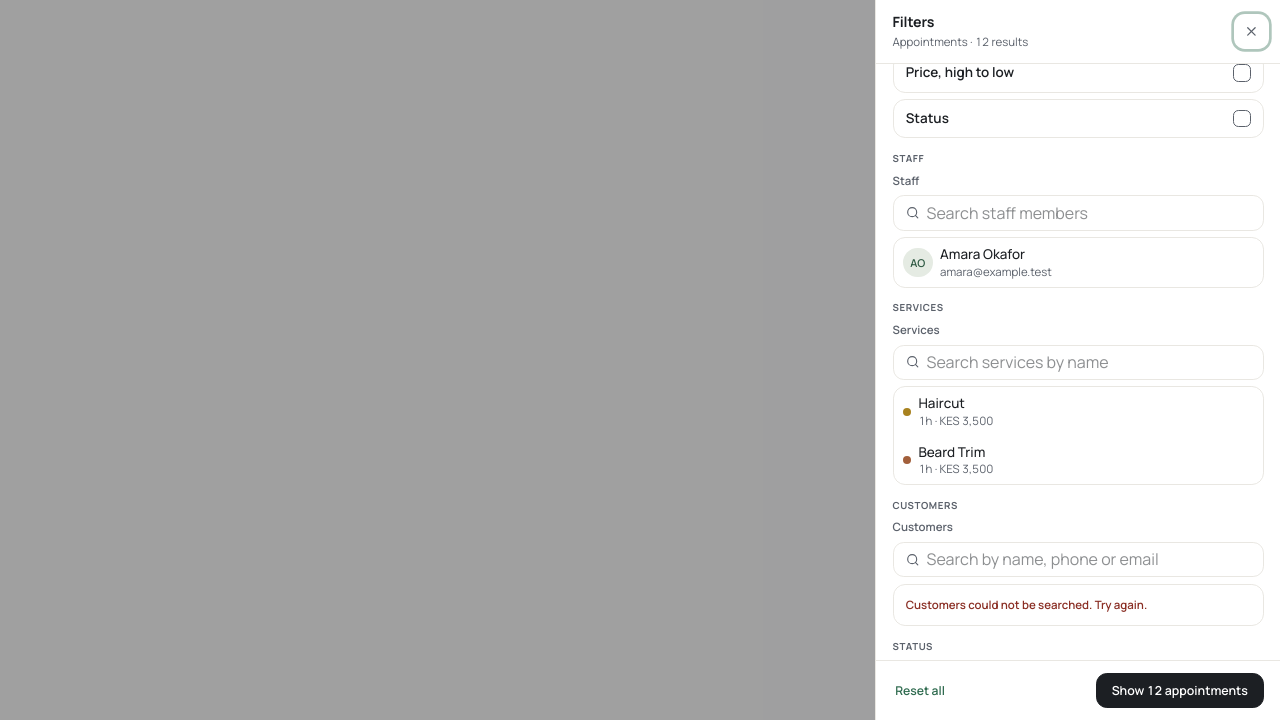
AppointmentFilters › searches services rather than listing the whole catalogue
The image size is (1280, 720).
(page scrolled)
Step 1. Type "beard" into the search field labelled "services" → x=1089, y=362, box x1=926 y1=351 x2=1251 y2=373
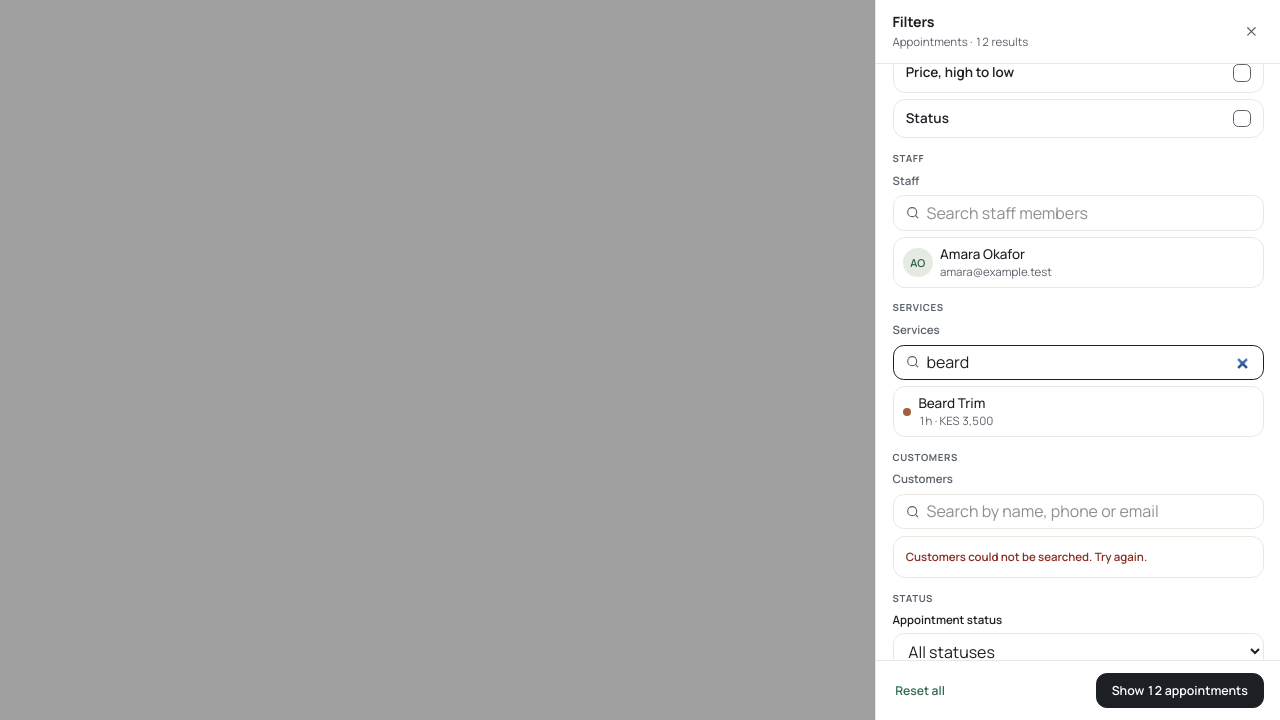
Check: the text "Beard Trim" is shown, box x1=918 y1=394 x2=985 y2=412
Check: the option "Haircut" is gone
